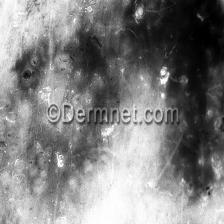Benign Marking or Mole: (12, 31, 122, 171), (155, 0, 224, 197)
